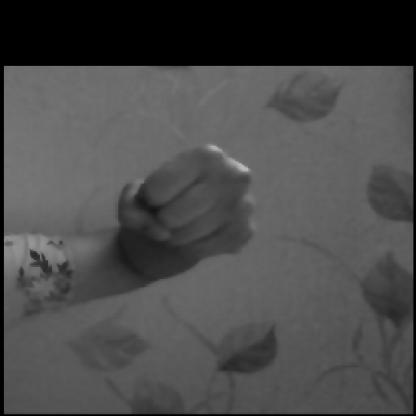fist: (99, 118, 268, 281)
